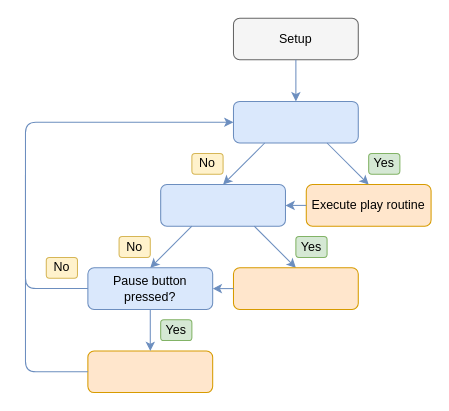
Image size: 449x411. Some labels were removed from this diagram. The shapes that lost their labels are listed below. From the top down, each one's centre as x and y in pixels, then its label:
At pixel 295 121: "Play button pressed?".
At pixel 222 205: "Home button pressed?".
At pixel 295 288: "Execute home routine".
At pixel 150 371: "Execute pause routine".
